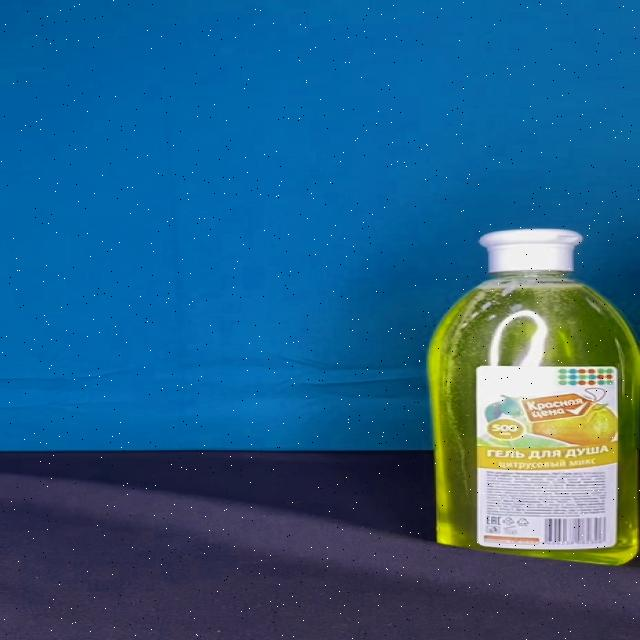Bottle: (427, 229, 640, 564)
Cap: (481, 229, 586, 272)
